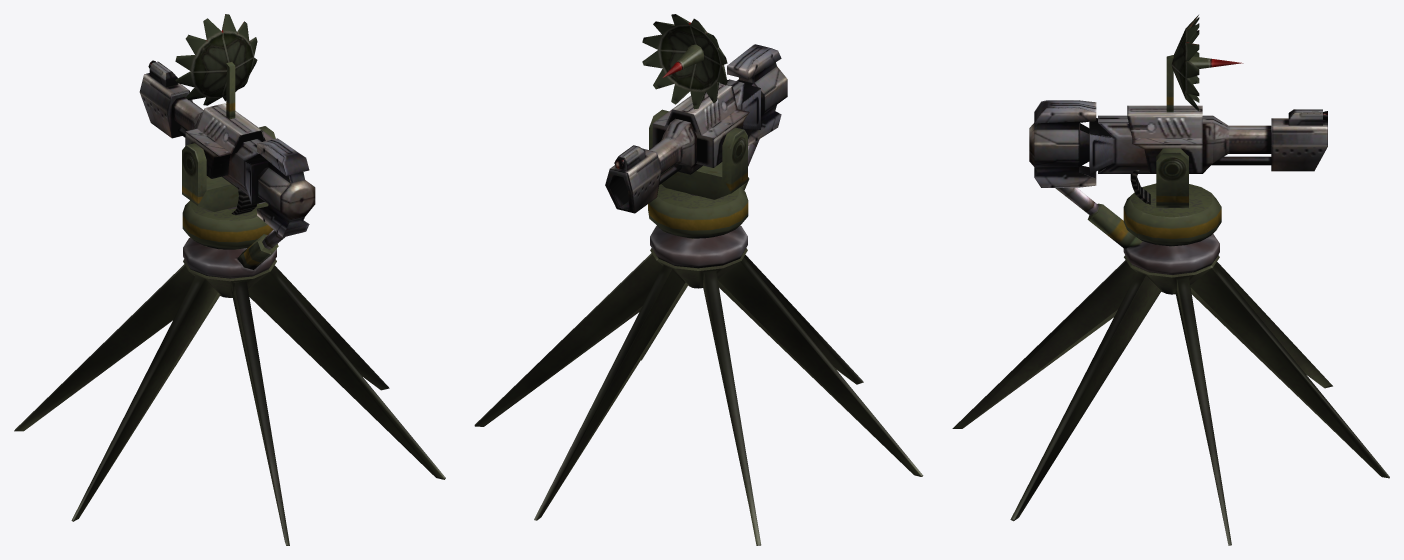
Rendered from turret.obj.
3 renders of one model, left to right at view 1: azimuth 30°, elevation 25°; view 2: azimuth 150°, elevation 25°; view 3: azimuth 270°, elevation 25°, orthographic. The views are drawn at different scales.
Parts seen in each view (by area): view 1: Group; view 2: Group; view 3: Group.
Boxes of the visible parts, x1=… form: Group: x1=14, y1=14, x2=445, y2=545; Group: x1=474, y1=14, x2=923, y2=545; Group: x1=952, y1=15, x2=1389, y2=545.
Bounding box in the file's own units: 45.71 × 50 × 45.71.
Materials: 1 (1 with a texture image).
